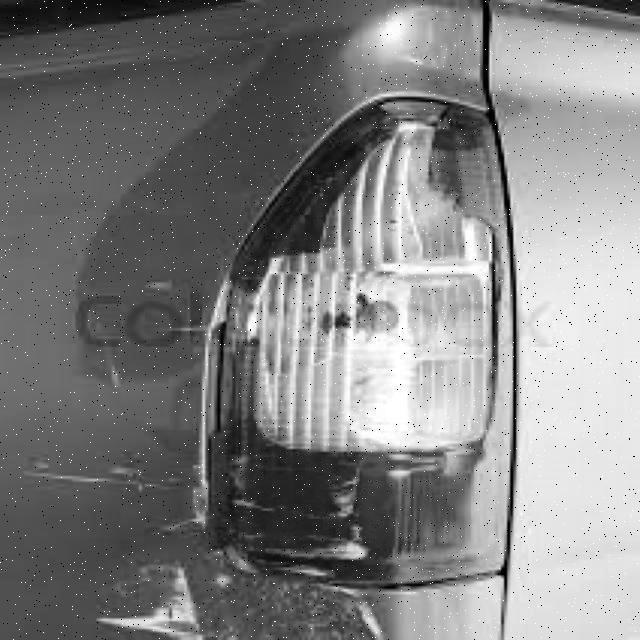Taillight-Damage: (187, 83, 525, 607)
